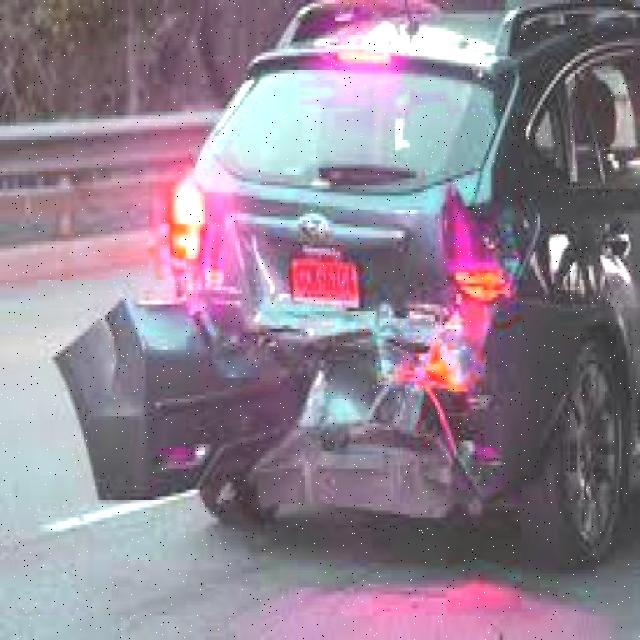car damage: (55, 184, 551, 534)
